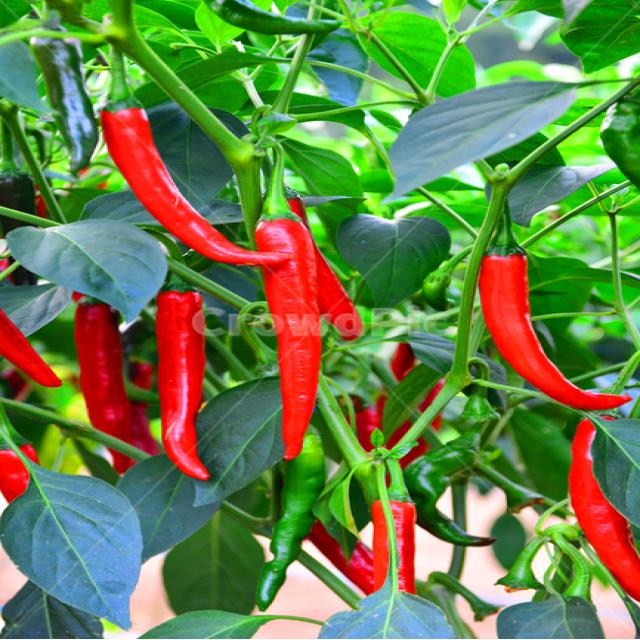chili: (101, 108, 287, 265), (478, 255, 630, 409), (253, 218, 322, 460), (570, 419, 640, 601), (156, 290, 210, 479), (75, 296, 131, 442)
